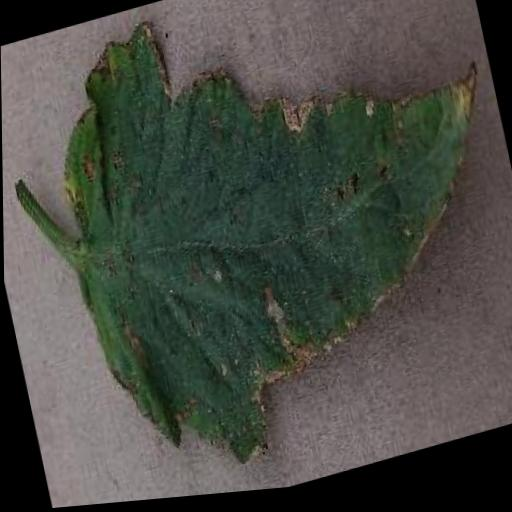Bacterial Spot: (30, 0, 512, 505)
